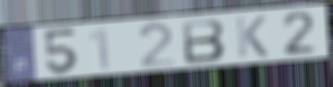1: (89, 26, 111, 72)
2: (136, 21, 179, 69), (280, 10, 319, 57)
5: (42, 25, 80, 77)
B: (180, 17, 227, 65)
K: (233, 14, 271, 59)
